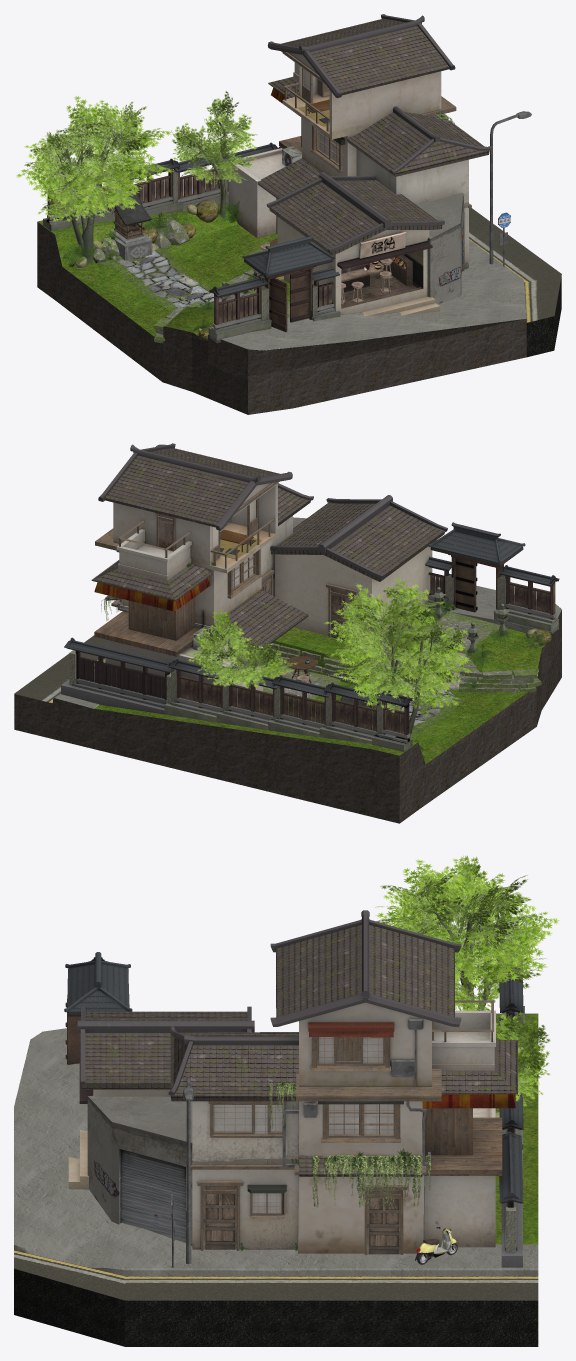
The model's file is anime-grandma-house.glb.
3 renders of one model, top to bottom at view 1: azimuth 30°, elevation 25°; view 2: azimuth 150°, elevation 25°; view 3: azimuth 270°, elevation 25°, orthographic. The views are drawn at different scales.
Parts seen in each view (by area): view 1: polySurface2376_M_side_0, roofs_M_roofs_0, polySurface2580_M_leaves_0, polySurface2441_moss_0, polySurface2440_M_concrete_0, polySurface2574_M_house_1_0, restaurant_M_restaurant_0, fence_repeat_M_fence_repeat_0, polySurface2368_M_house_3_0, gate_M_gate_0, garage_M_garage_0, polySurface2377_M_road_0 (+13 smaller); view 2: polySurface2376_M_side_0, roofs_M_roofs_0, polySurface2580_M_leaves_0, fence_repeat_M_fence_repeat_0, polySurface2574_M_house_1_0, polySurface2441_moss_0, restaurant_M_restaurant_0, polySurface2350_M_house_2_0, fence_1_lambert7_0, M_flat_stone_M_rock_patch_0, gate_M_gate_0, polySurface2389_M_wood_0 (+11 smaller); view 3: roofs_M_roofs_0, polySurface2440_M_concrete_0, polySurface2376_M_side_0, polySurface2574_M_house_1_0, polySurface2580_M_leaves_0, polySurface2368_M_house_3_0, polySurface2350_M_house_2_0, garage_M_garage_0, polySurface2377_M_road_0, polySurface2389_M_wood_0, window_M_window_0, restaurant_M_restaurant_0 (+9 smaller).
Boxes of the visible parts, bbox=[...] form: polySurface2376_M_side_0: bbox=[37, 220, 561, 414]; roofs_M_roofs_0: bbox=[258, 18, 489, 255]; polySurface2580_M_leaves_0: bbox=[16, 91, 257, 249]; polySurface2441_moss_0: bbox=[37, 204, 289, 343]; polySurface2440_M_concrete_0: bbox=[208, 240, 526, 350]; polySurface2574_M_house_1_0: bbox=[267, 14, 455, 176]; restaurant_M_restaurant_0: bbox=[266, 172, 444, 316]; fence_repeat_M_fence_repeat_0: bbox=[43, 142, 278, 342]; polySurface2368_M_house_3_0: bbox=[271, 88, 491, 268]; gate_M_gate_0: bbox=[242, 235, 335, 332]; garage_M_garage_0: bbox=[210, 146, 464, 307]; polySurface2377_M_road_0: bbox=[469, 208, 561, 322]; polySurface2376_M_side_0: bbox=[14, 606, 561, 823]; roofs_M_roofs_0: bbox=[91, 448, 444, 648]; polySurface2580_M_leaves_0: bbox=[187, 578, 472, 717]; fence_repeat_M_fence_repeat_0: bbox=[164, 565, 559, 751]; polySurface2574_M_house_1_0: bbox=[98, 443, 292, 653]; polySurface2441_moss_0: bbox=[94, 609, 544, 763]; restaurant_M_restaurant_0: bbox=[270, 495, 447, 642]; polySurface2350_M_house_2_0: bbox=[94, 529, 263, 705]; fence_1_lambert7_0: bbox=[61, 637, 172, 714]; M_flat_stone_M_rock_patch_0: bbox=[263, 610, 541, 719]; gate_M_gate_0: bbox=[428, 522, 525, 612]; polySurface2389_M_wood_0: bbox=[95, 481, 357, 650]; roofs_M_roofs_0: bbox=[82, 925, 517, 1176]; polySurface2440_M_concrete_0: bbox=[14, 1028, 538, 1275]; polySurface2376_M_side_0: bbox=[14, 1013, 538, 1346]; polySurface2574_M_house_1_0: bbox=[270, 910, 461, 1253]; polySurface2580_M_leaves_0: bbox=[375, 855, 559, 1106]; polySurface2368_M_house_3_0: bbox=[168, 1022, 515, 1249]; polySurface2350_M_house_2_0: bbox=[422, 1010, 502, 1247]; garage_M_garage_0: bbox=[87, 1095, 192, 1245]; polySurface2377_M_road_0: bbox=[14, 1250, 538, 1300]; polySurface2389_M_wood_0: bbox=[190, 1000, 494, 1254]; window_M_window_0: bbox=[213, 1037, 393, 1214]; restaurant_M_restaurant_0: bbox=[68, 1006, 254, 1189].
Bounding box in the file's own units: 21.75 × 11.86 × 18.21.
Materials: 36 (34 with a texture image).
